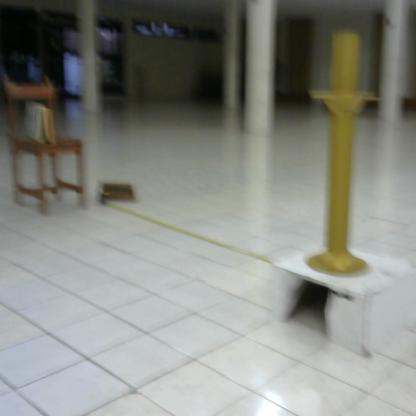pole: (304, 29, 387, 284)
